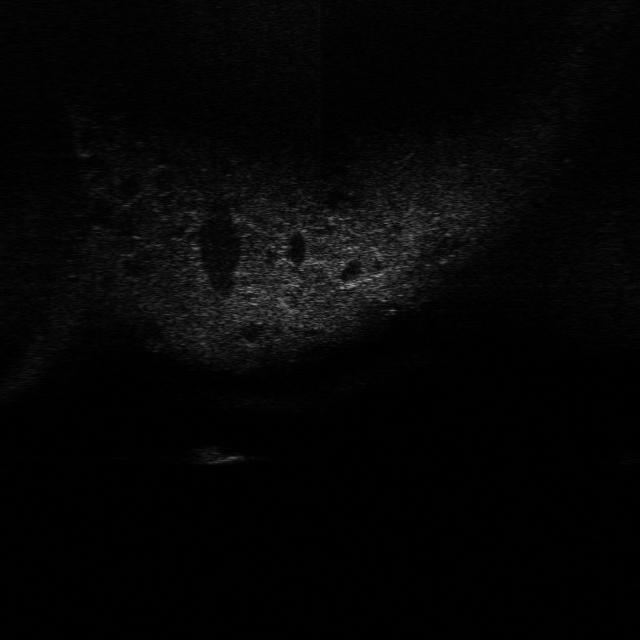cube: (186, 439, 253, 467)
